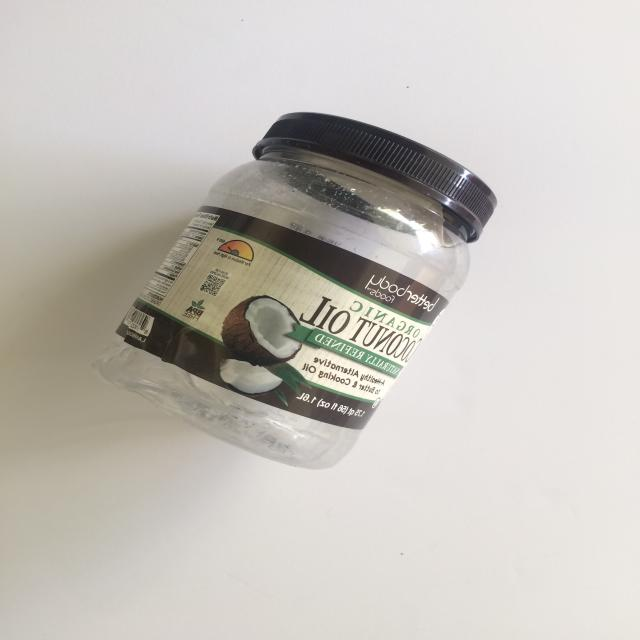plastic: (92, 111, 498, 470)
